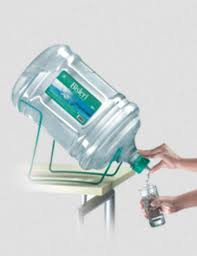Bisleri: (54, 77, 97, 114)
plastic: (14, 83, 129, 153)
